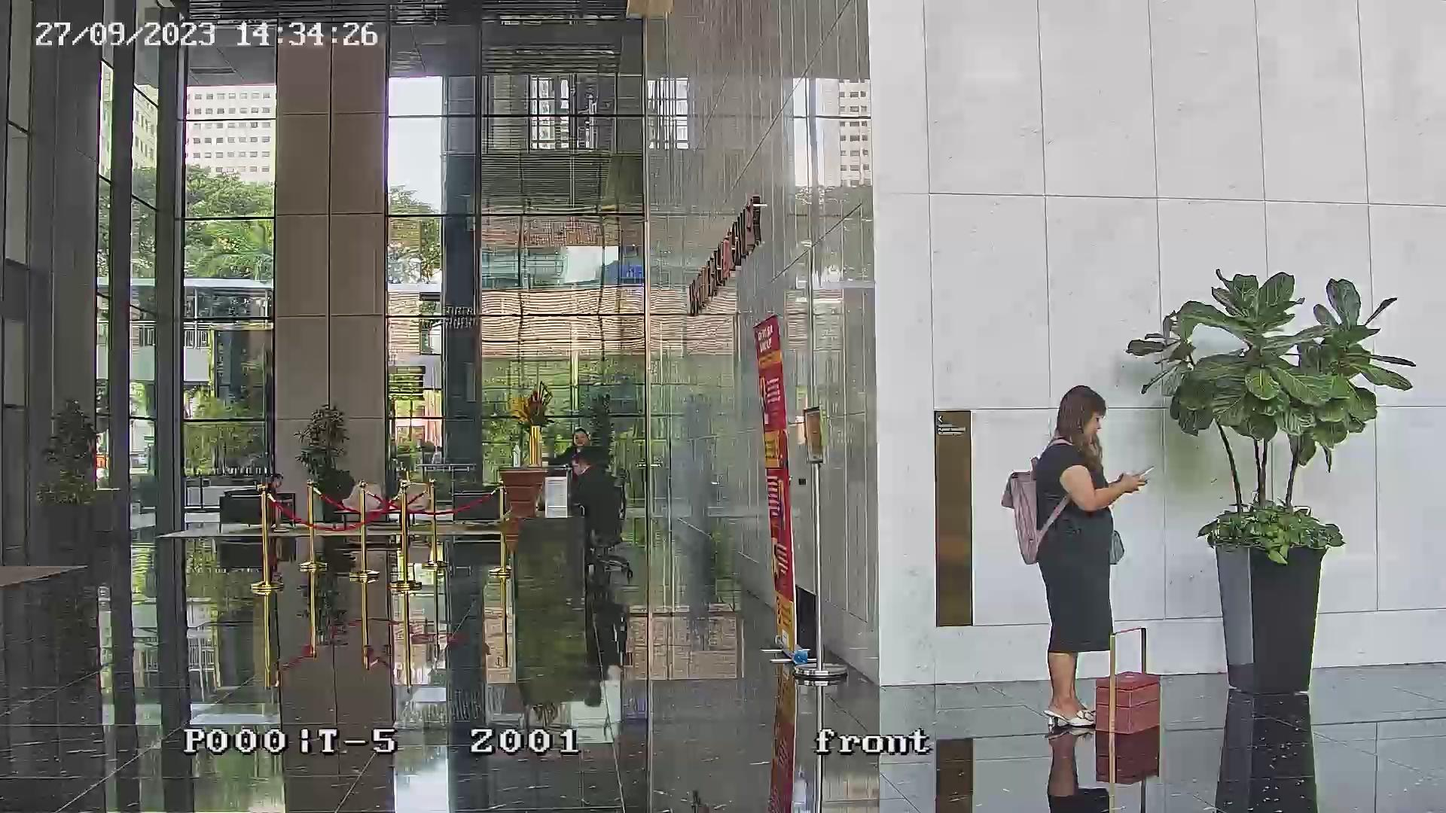person: (1029, 385, 1152, 729), (570, 452, 618, 538), (551, 428, 600, 468), (262, 472, 283, 497)
